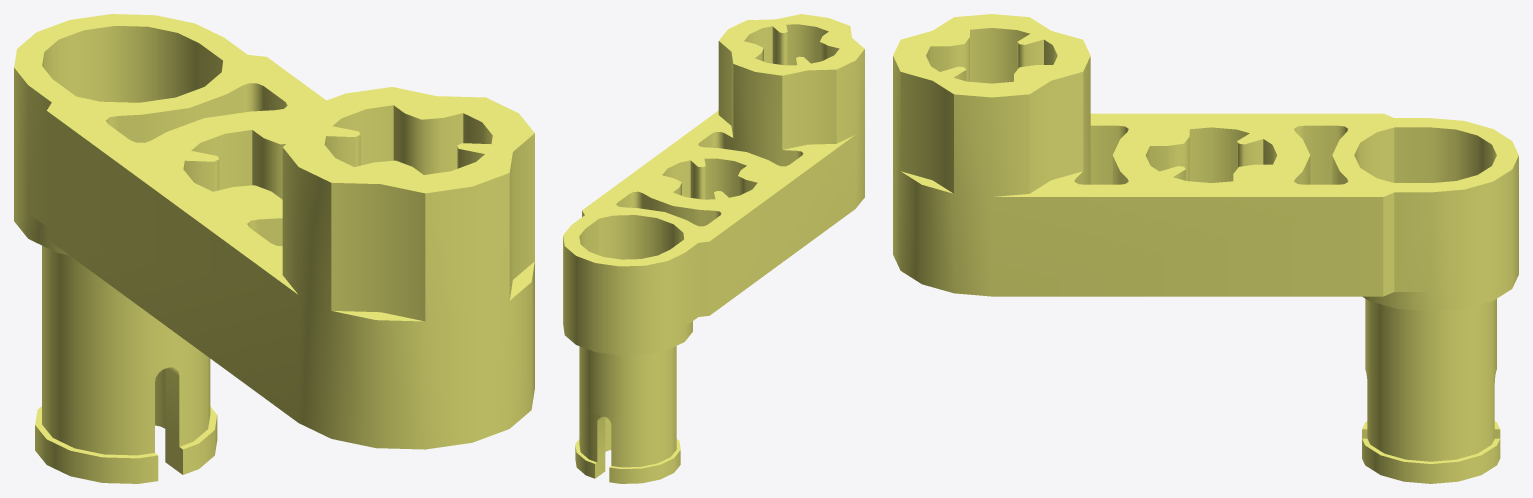
3 views of the same model, side by side, from view 1: azimuth 30°, elevation 25°; view 2: azimuth 150°, elevation 25°; view 3: azimuth 270°, elevation 25° (orthographic). The views are drawn at different scales.
Parts seen in each view (by area): view 1: 33299a.dat; view 2: 33299a.dat; view 3: 33299a.dat.
Boxes of the visible parts, left/top/right/bottom form: 33299a.dat: left=14, top=14, right=534, bottom=483; 33299a.dat: left=563, top=14, right=864, bottom=483; 33299a.dat: left=893, top=14, right=1518, bottom=483.
Size of the model in its own units: 0.0072 by 0.016 by 0.0228.
